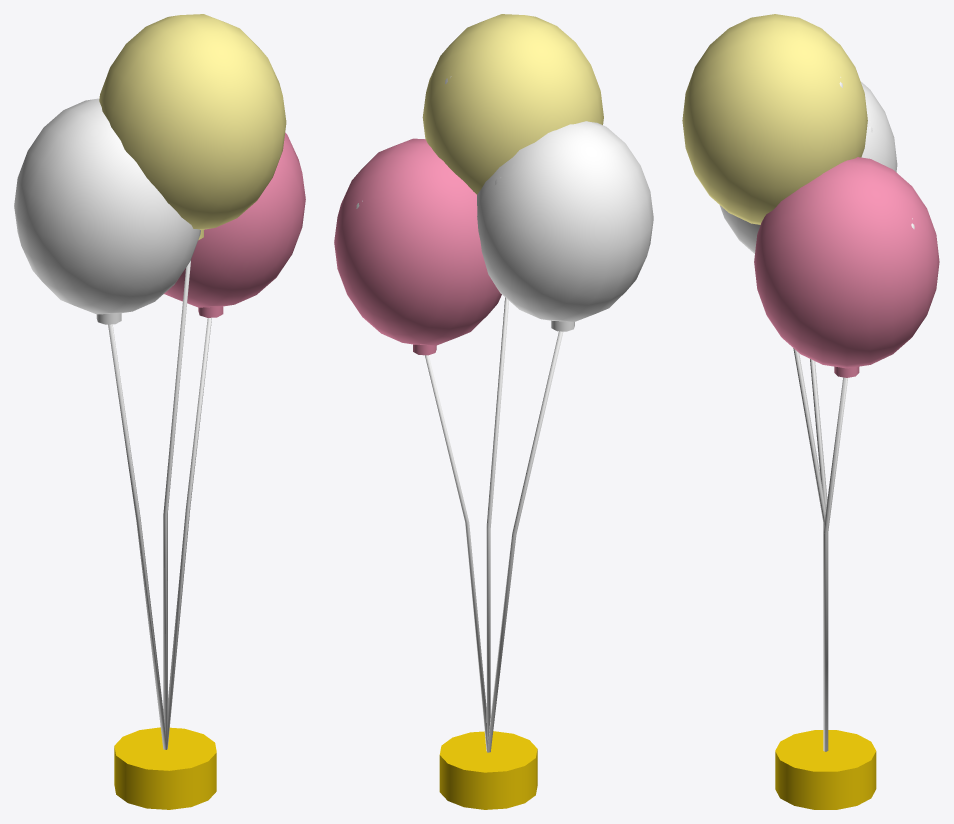
The model's file is balloons.fbx.
3 views of the same model, side by side, from view 1: azimuth 30°, elevation 25°; view 2: azimuth 150°, elevation 25°; view 3: azimuth 270°, elevation 25° (orthographic). The views are drawn at different scales.
Visible parts, largest first — view 1: IT'S A GIRL Balloons; view 2: IT'S A GIRL Balloons; view 3: IT'S A GIRL Balloons.
Boxes of the visible parts, x1,y1,x2,y2 form: IT'S A GIRL Balloons: [14, 14, 305, 809]; IT'S A GIRL Balloons: [334, 14, 653, 809]; IT'S A GIRL Balloons: [682, 14, 939, 809].
Size of the model in its own units: 0.77 by 2.01 by 0.61.
